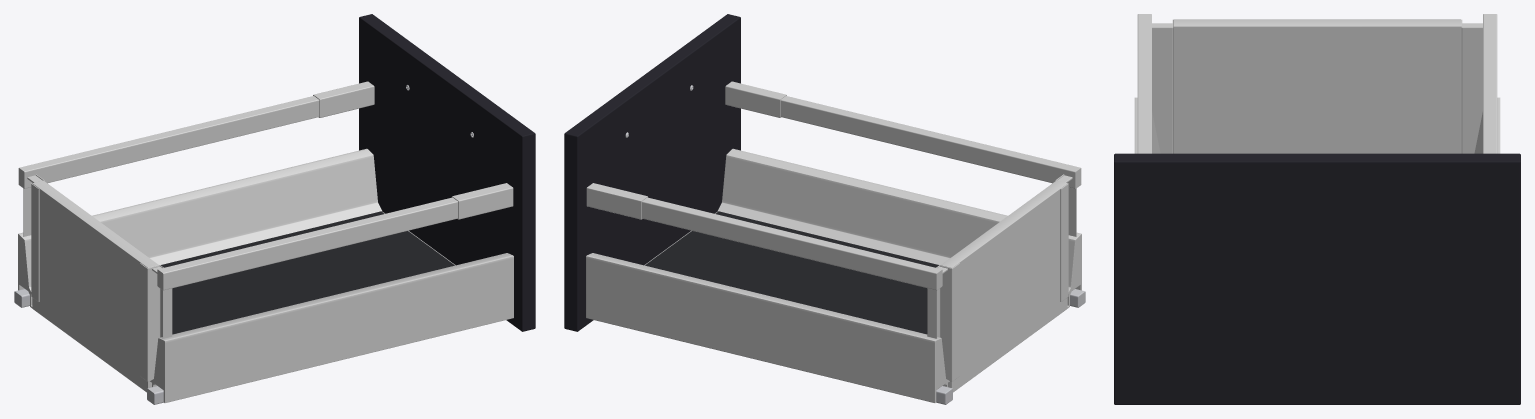
The model's file is Kitchen06Drawer02.fbx.
3 renders of one model, left to right at view 1: azimuth 30°, elevation 25°; view 2: azimuth 150°, elevation 25°; view 3: azimuth 270°, elevation 25°, orthographic. The views are drawn at different scales.
Parts seen in each view (by area): view 1: Kitchen06Drawer02; view 2: Kitchen06Drawer02; view 3: Kitchen06Drawer02.
Boxes of the visible parts, x1,y1,x2,y2 form: Kitchen06Drawer02: (14,14,535,404); Kitchen06Drawer02: (564,14,1085,404); Kitchen06Drawer02: (1114,14,1520,404).
Size of what is drawn, in the model's own units: 51.99 by 39.8 by 26.3.
Materials: 4 (1 with a texture image).
